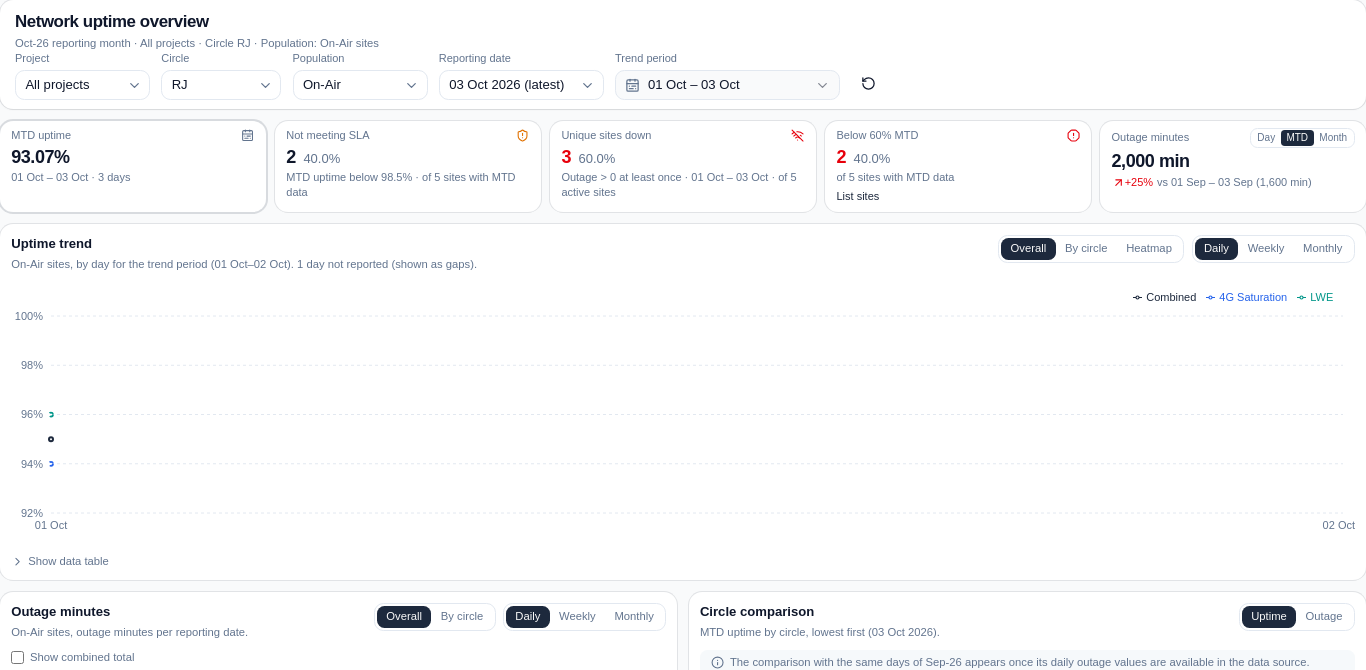
Test: DashboardPage › drops a circle that does not belong to the newly selected report type
The image size is (1366, 670).
Click the dropdown labelled "project". click: (82, 85)
box: [15,70,150,100]
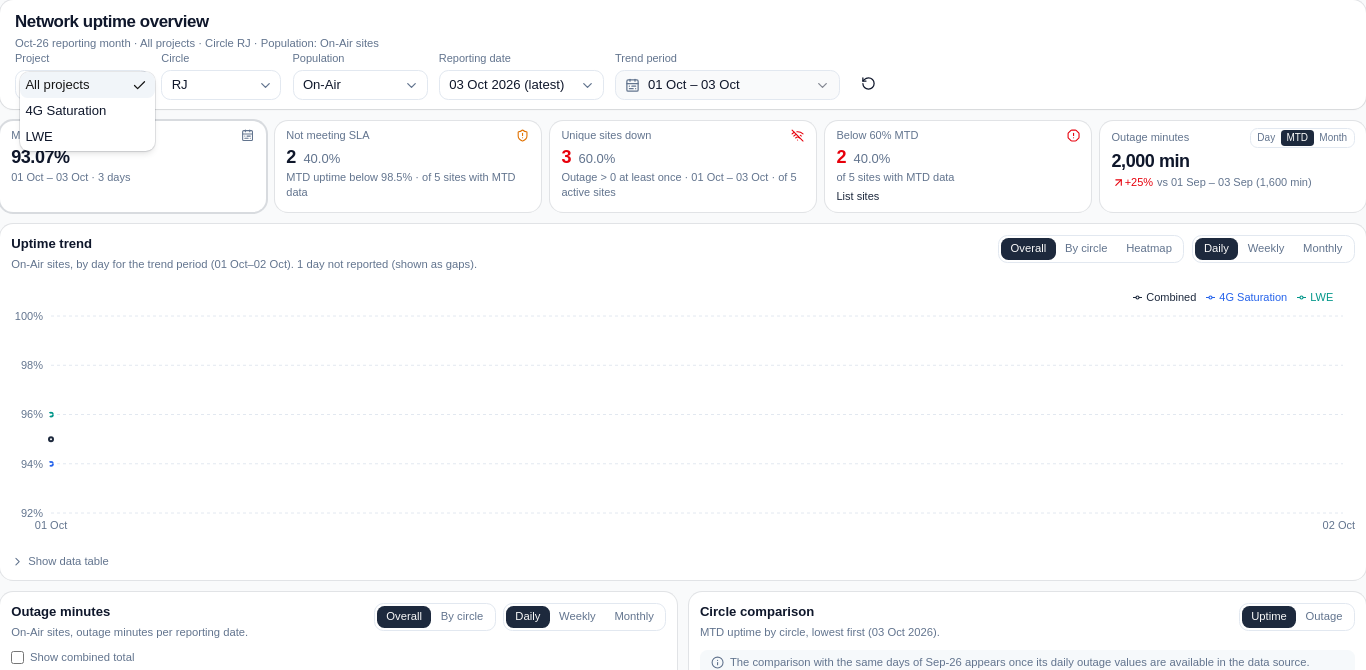
Click the option "LWE". click: (39, 137)
box: [25,129,53,144]
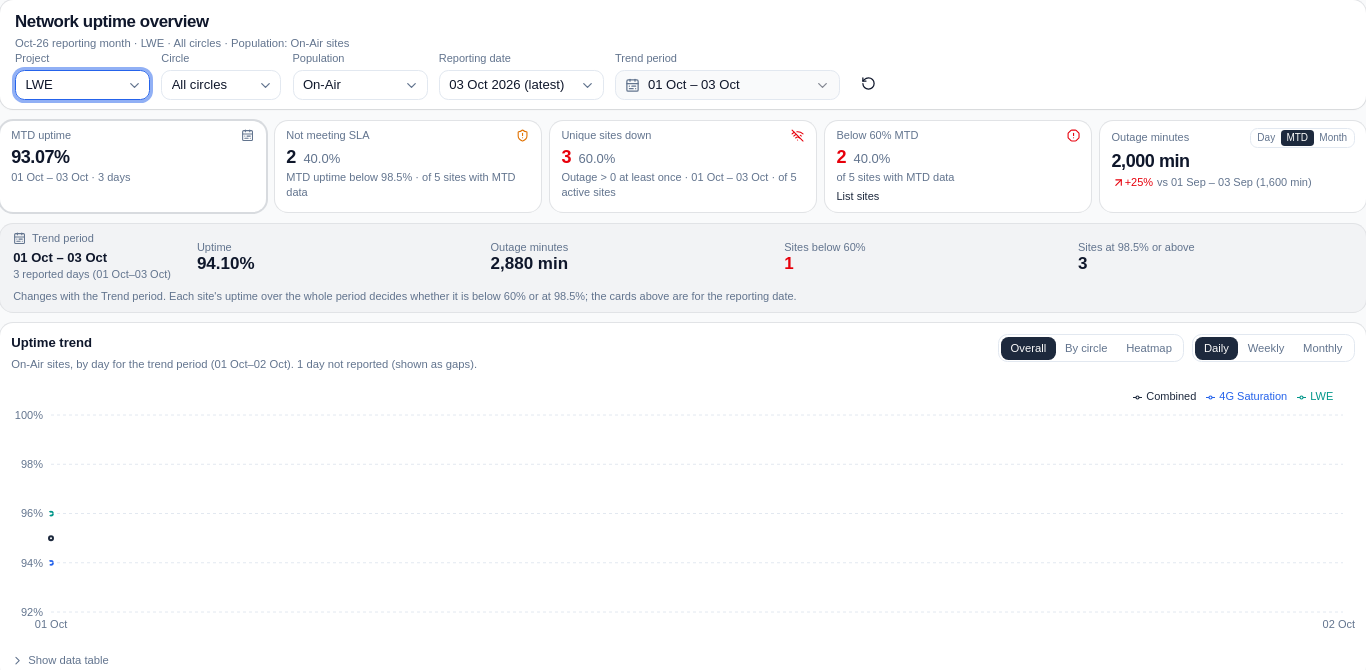
Result: the text "LWE" below "Project" is shown at [25,77,53,92]
